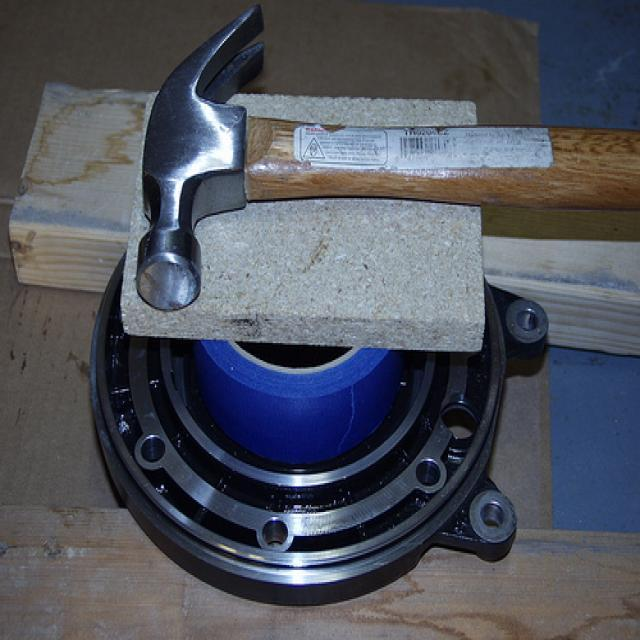hammer: (120, 0, 640, 326)
